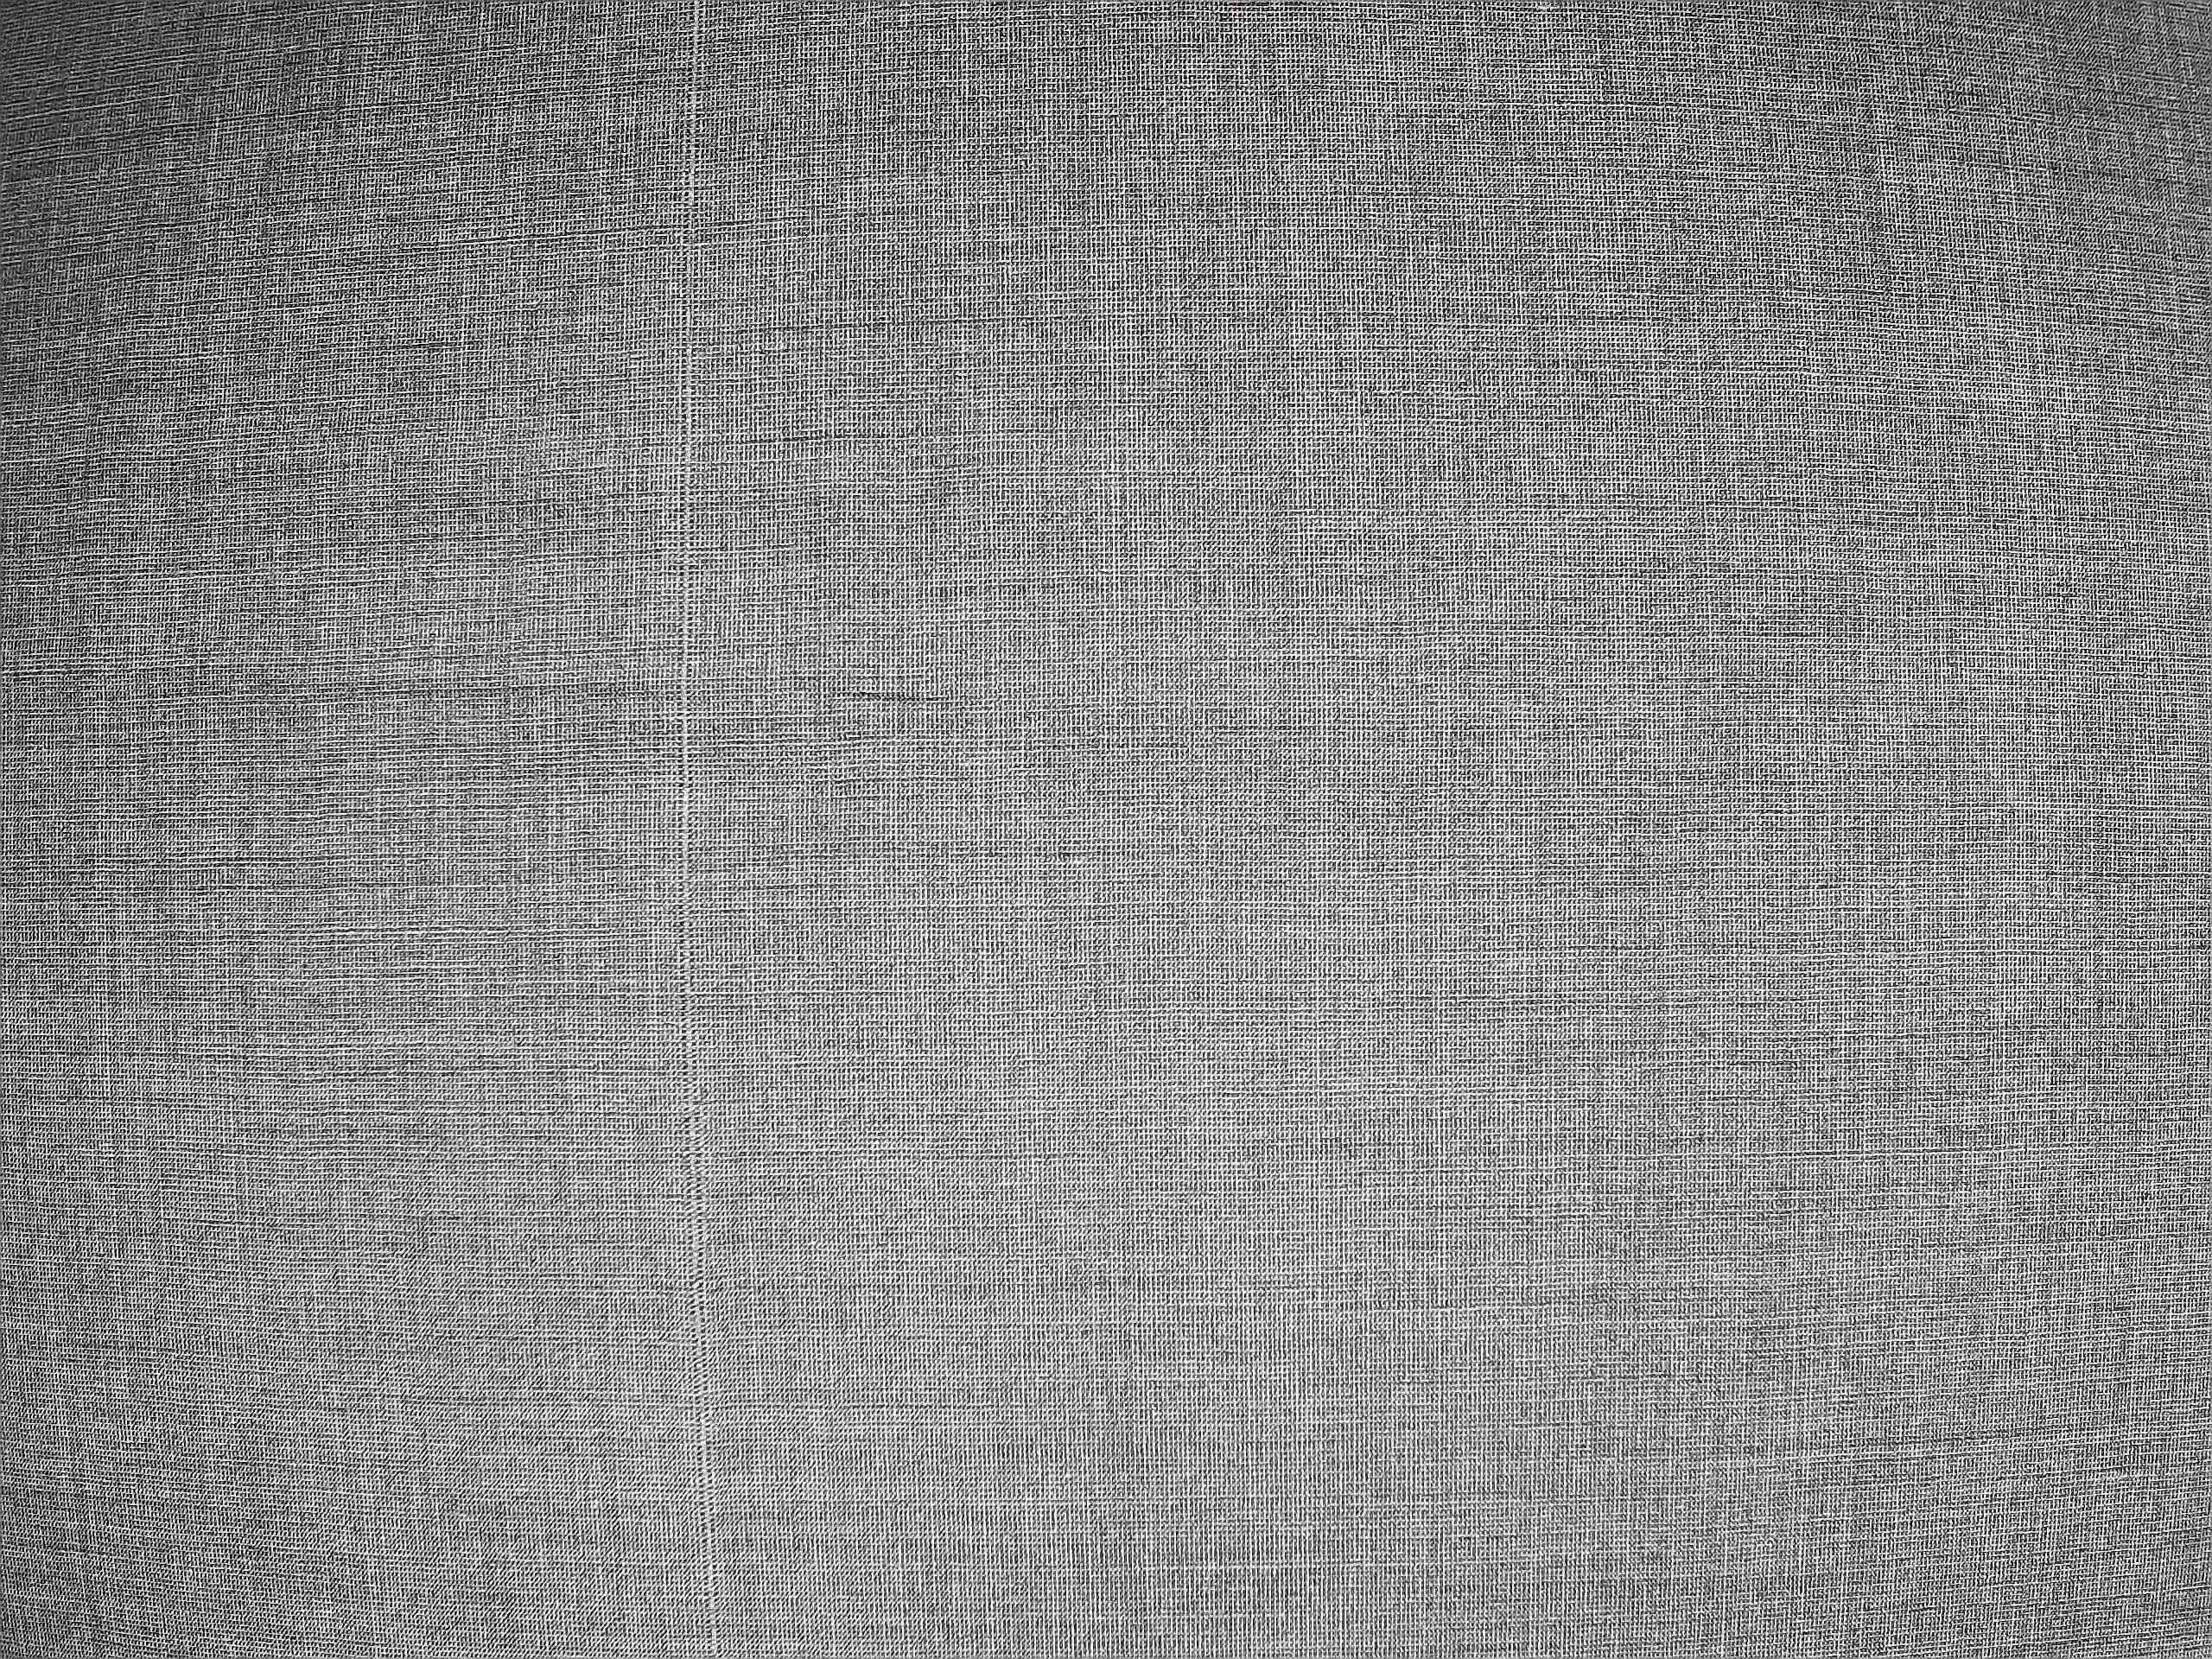lacking-warp: (667, 7, 719, 1288)
